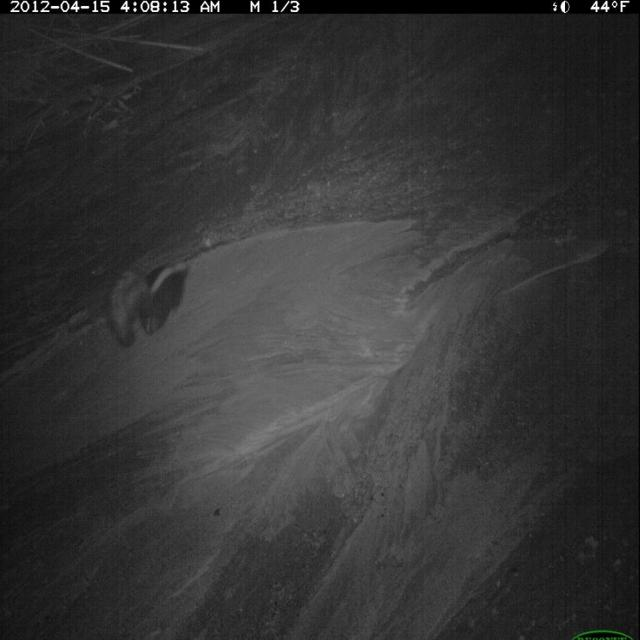skunk: (108, 253, 193, 354)
